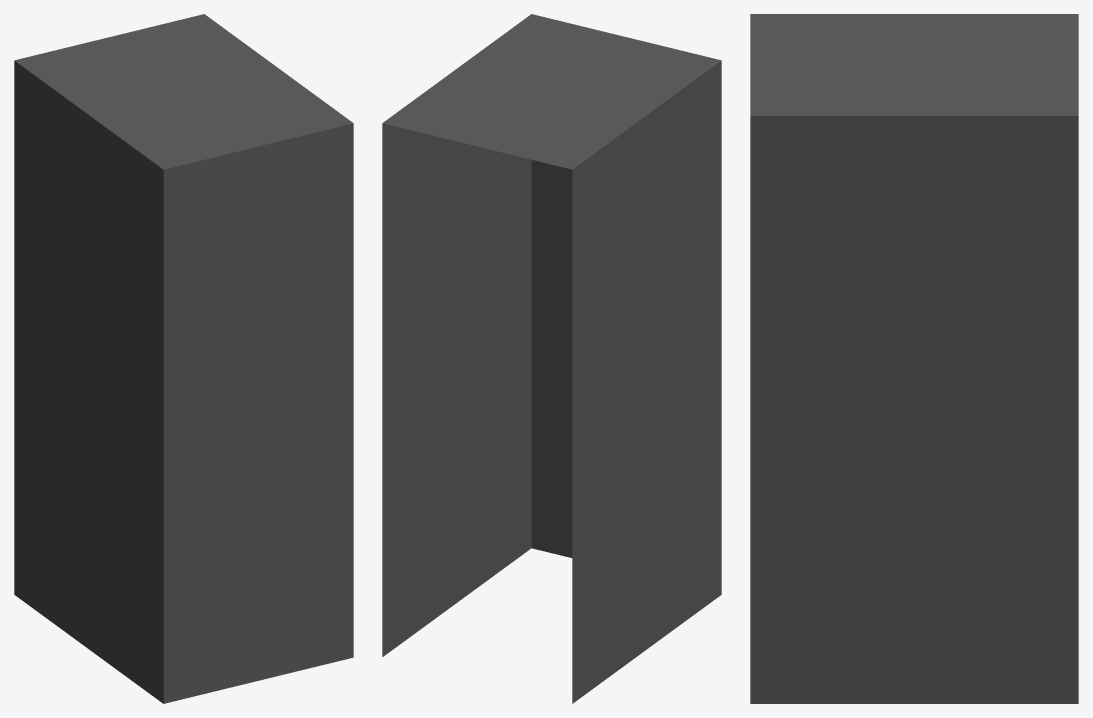
File: Build_1.FBX
3 views of the same model, side by side, from view 1: azimuth 30°, elevation 25°; view 2: azimuth 150°, elevation 25°; view 3: azimuth 270°, elevation 25° (orthographic). The views are drawn at different scales.
Parts seen in each view (by area): view 1: Building_01; view 2: Building_01; view 3: Building_01.
Boxes of the visible parts, bbox=[...] form: Building_01: bbox=[14, 14, 353, 703]; Building_01: bbox=[382, 14, 721, 703]; Building_01: bbox=[750, 14, 1078, 703].
Size of the model in its own units: 823 by 2211 by 1120.
